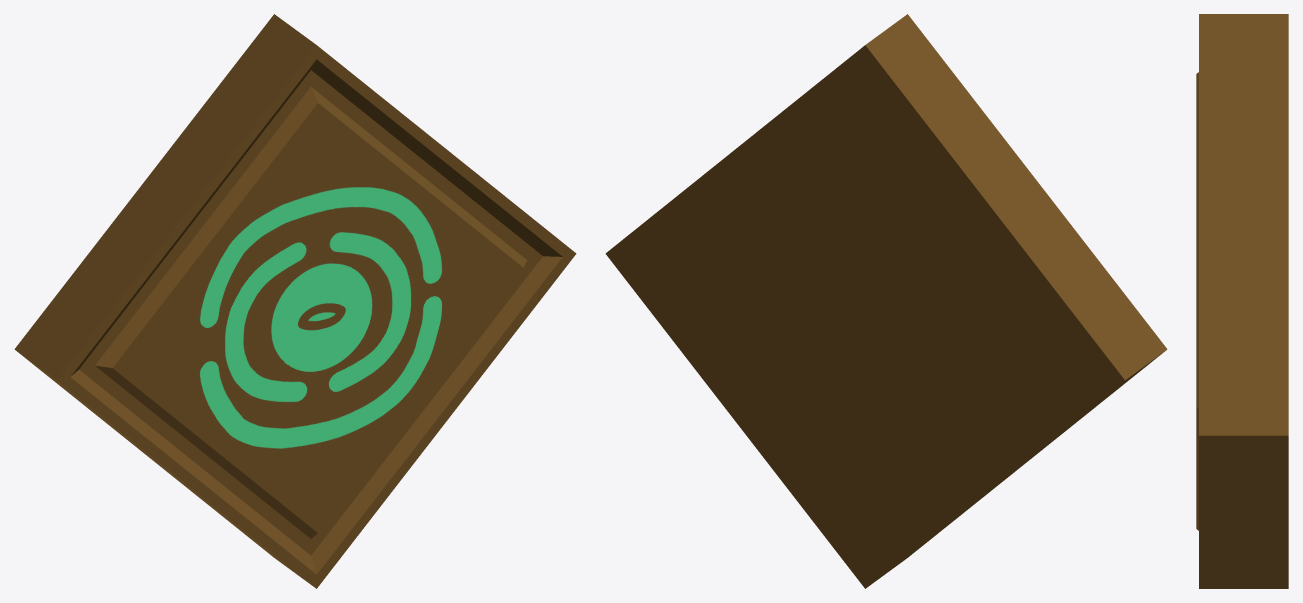
File: Mesh_GrappleTarget.glb
The picture shows the model from 3 angles, left to right: view 1: azimuth 30°, elevation 25°; view 2: azimuth 150°, elevation 25°; view 3: azimuth 270°, elevation 25°; orthographic projection. The views are drawn at different scales.
Visible parts, largest first — view 1: Cube.032; view 2: Cube.032; view 3: Cube.032.
Part boxes in pixels (box(x1,y1,x2,y2)): Cube.032: box(14, 14, 576, 588); Cube.032: box(605, 14, 1167, 588); Cube.032: box(1196, 14, 1288, 588).
Size of the model in its own units: 6.77 by 6.77 by 0.9874.
Materials: 1 (1 with a texture image).
